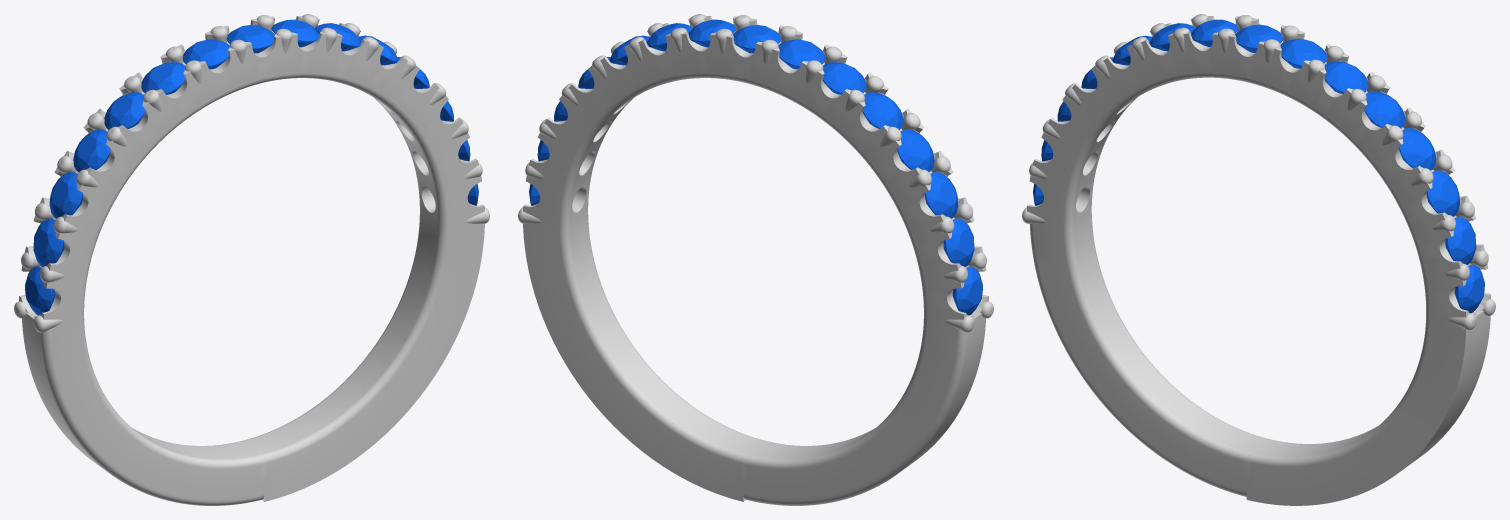
The model's file is KateSapphirePT_blender.glb.
The picture shows the model from 3 angles, left to right: view 1: azimuth 30°, elevation 25°; view 2: azimuth 150°, elevation 25°; view 3: azimuth 330°, elevation 25°; orthographic projection.
Visible parts, largest first — view 1: Kate PT for 3d model, Kate sapph for 3d model.011, Kate sapph for 3d model.010, Kate sapph for 3d model.012, Kate sapph for 3d model.009, Kate sapph for 3d model.013, Kate sapph for 3d model.008, Kate sapph for 3d model.014, Kate sapph for 3d model.007, Kate sapph for 3d model.006, Kate sapph for 3d model.005; view 2: Kate PT for 3d model, Kate sapph for 3d model.011, Kate sapph for 3d model.010, Kate sapph for 3d model.012, Kate sapph for 3d model.009, Kate sapph for 3d model.013, Kate sapph for 3d model.008, Kate sapph for 3d model.014, Kate sapph for 3d model.007, Kate sapph for 3d model.006, Kate sapph for 3d model.005; view 3: Kate PT for 3d model, Kate sapph for 3d model.003, Kate sapph for 3d model.004, Kate sapph for 3d model.002, Kate sapph for 3d model.005, Kate sapph for 3d model.001, Kate sapph for 3d model.006, Kate sapph for 3d model, Kate sapph for 3d model.007, Kate sapph for 3d model.008, Kate sapph for 3d model.009.
Part boxes in pixels (box(x1,y1,x2,y2)): Kate PT for 3d model: box(14, 14, 489, 505); Kate sapph for 3d model.011: box(73, 129, 110, 171); Kate sapph for 3d model.010: box(104, 92, 145, 129); Kate sapph for 3d model.012: box(49, 172, 82, 218); Kate sapph for 3d model.009: box(141, 62, 185, 94); Kate sapph for 3d model.013: box(33, 218, 64, 266); Kate sapph for 3d model.008: box(182, 39, 229, 69); Kate sapph for 3d model.014: box(25, 266, 55, 315); Kate sapph for 3d model.007: box(226, 25, 274, 53); Kate sapph for 3d model.006: box(271, 19, 319, 47); Kate sapph for 3d model.005: box(315, 23, 361, 51); Kate PT for 3d model: box(518, 14, 993, 505); Kate sapph for 3d model.011: box(897, 129, 934, 171); Kate sapph for 3d model.010: box(862, 92, 903, 129); Kate sapph for 3d model.012: box(925, 172, 958, 218); Kate sapph for 3d model.009: box(822, 62, 866, 94); Kate sapph for 3d model.013: box(943, 218, 974, 266); Kate sapph for 3d model.008: box(778, 39, 825, 69); Kate sapph for 3d model.014: box(952, 266, 982, 315); Kate sapph for 3d model.007: box(733, 25, 781, 53); Kate sapph for 3d model.006: box(688, 19, 736, 47); Kate sapph for 3d model.005: box(646, 23, 692, 51); Kate PT for 3d model: box(1022, 14, 1495, 505); Kate sapph for 3d model.003: box(1399, 128, 1436, 170); Kate sapph for 3d model.004: box(1364, 91, 1405, 128); Kate sapph for 3d model.002: box(1426, 170, 1459, 216); Kate sapph for 3d model.005: box(1324, 61, 1368, 93); Kate sapph for 3d model.001: box(1445, 216, 1476, 264); Kate sapph for 3d model.006: box(1280, 38, 1327, 68); Kate sapph for 3d model: box(1454, 264, 1484, 312); Kate sapph for 3d model.007: box(1235, 24, 1283, 52); Kate sapph for 3d model.008: box(1191, 19, 1238, 47); Kate sapph for 3d model.009: box(1149, 23, 1194, 51).
Bounding box in the file's own units: 21.01 × 20.6 × 2.26.
